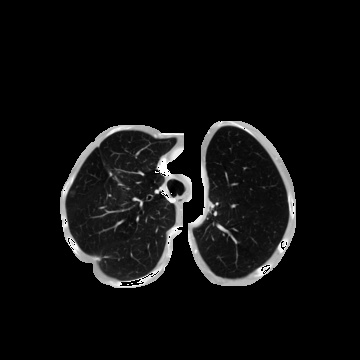PN: (68, 189, 76, 197)
